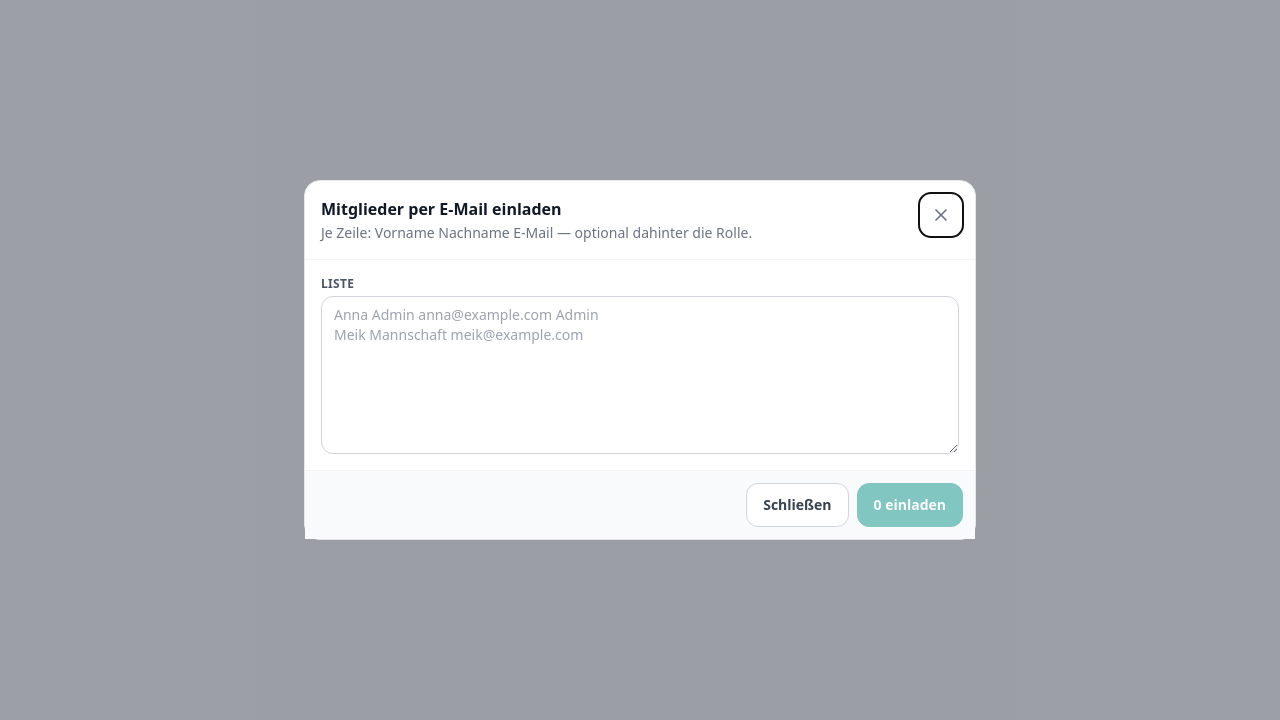
Scenario: InviteDialog › sagt es, wenn jemand schon ein Konto hat
In the text box labelled "Liste": (640, 375) [321,296,959,454], type "Meik Mannschaft meik@example.com"
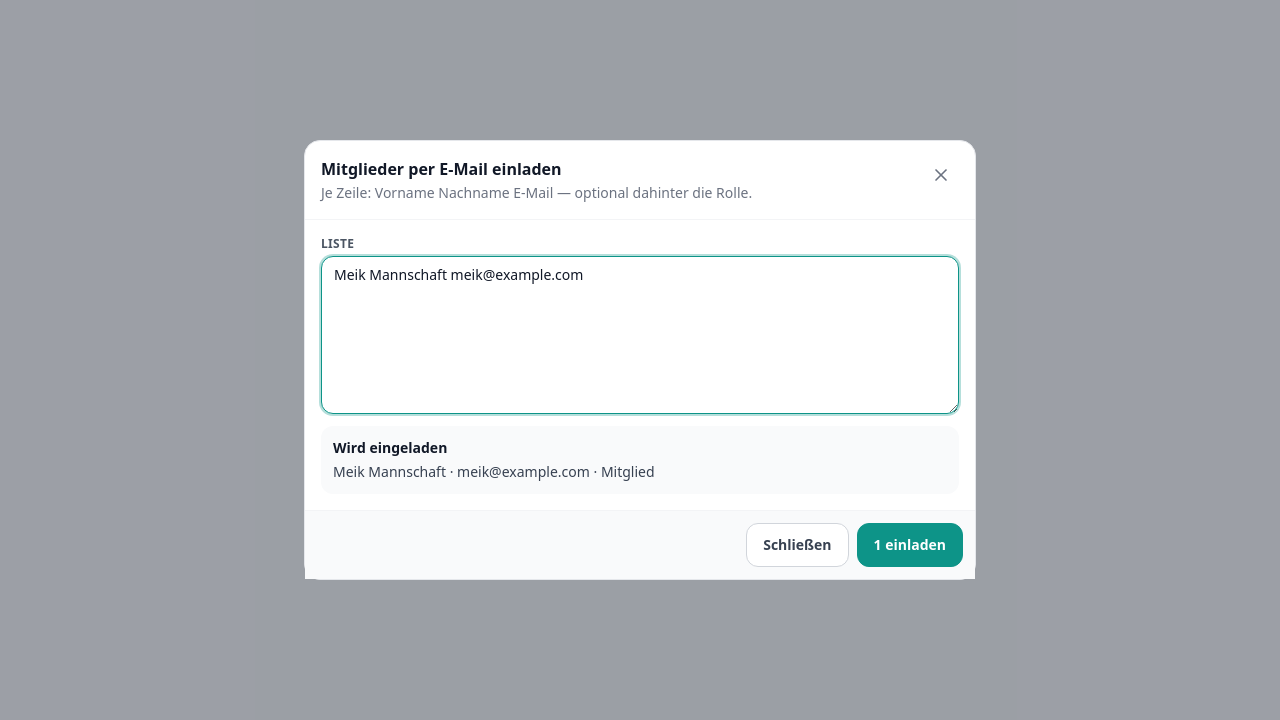
Click the button "1 einladen": (910, 545) [856,523,963,567]
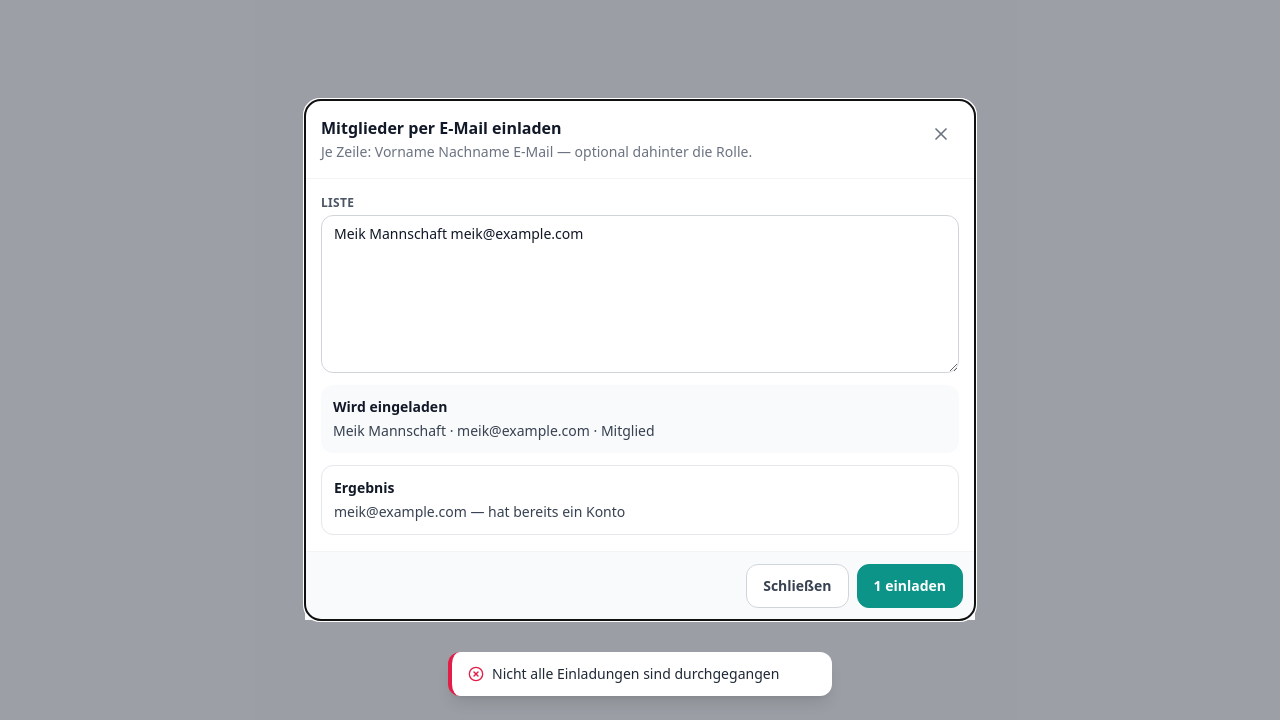
Now the list item "meik@example.com — hat bereits ein Konto" is shown, box [334,502,625,521]
